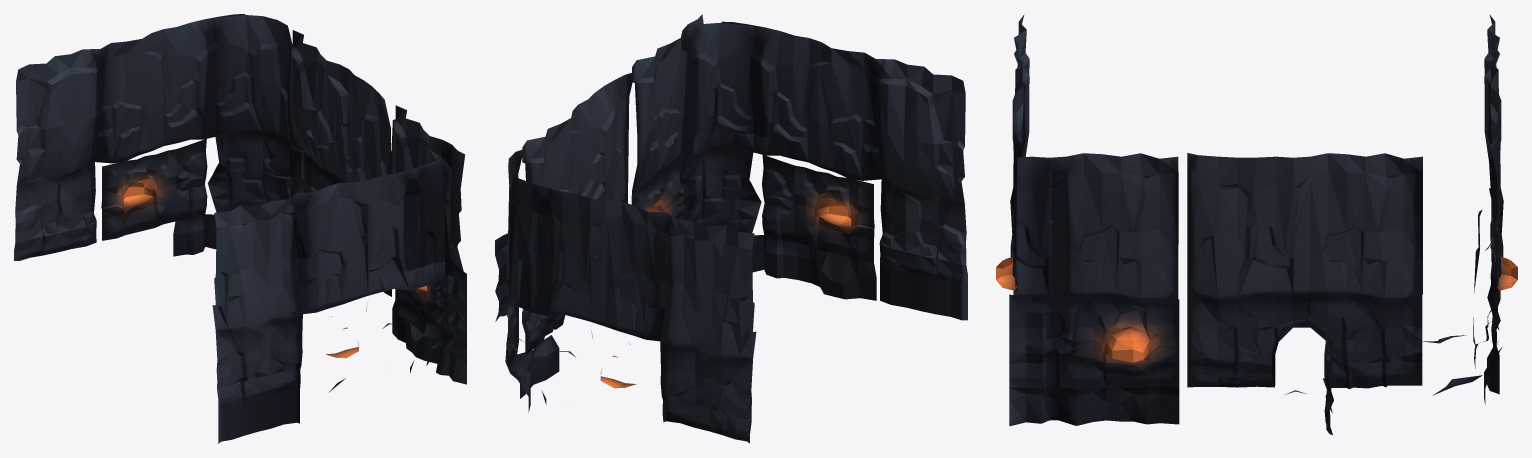
Rendered from Wall_01.FBX.
3 renders of one model, left to right at view 1: azimuth 30°, elevation 25°; view 2: azimuth 150°, elevation 25°; view 3: azimuth 270°, elevation 25°, orthographic. The views are drawn at different scales.
Visible parts, largest first — view 1: Wall_01; view 2: Wall_01; view 3: Wall_01.
Boxes of the visible parts, x1=… form: Wall_01: x1=14, y1=14, x2=466, y2=443; Wall_01: x1=495, y1=14, x2=967, y2=443; Wall_01: x1=996, y1=14, x2=1517, y2=434.
Size of the model in its own units: 22.23 by 15.38 by 26.89.
